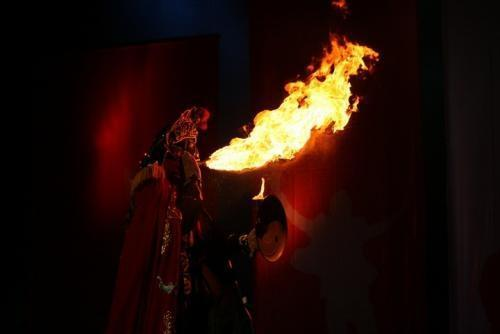fire: (190, 49, 393, 166)
